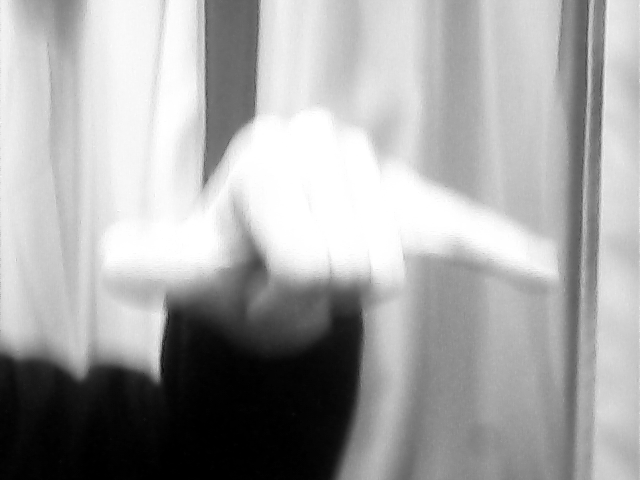aloha: (97, 107, 567, 315)
